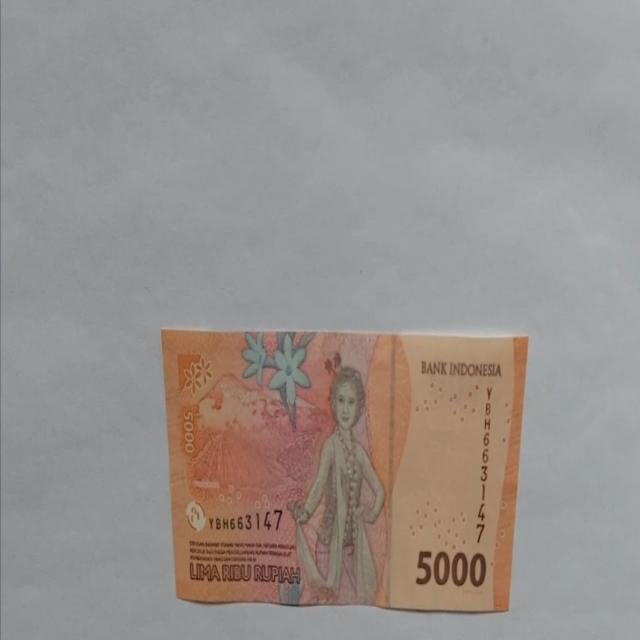lima ribu rupiah: (160, 328, 530, 612), (286, 364, 386, 606)
